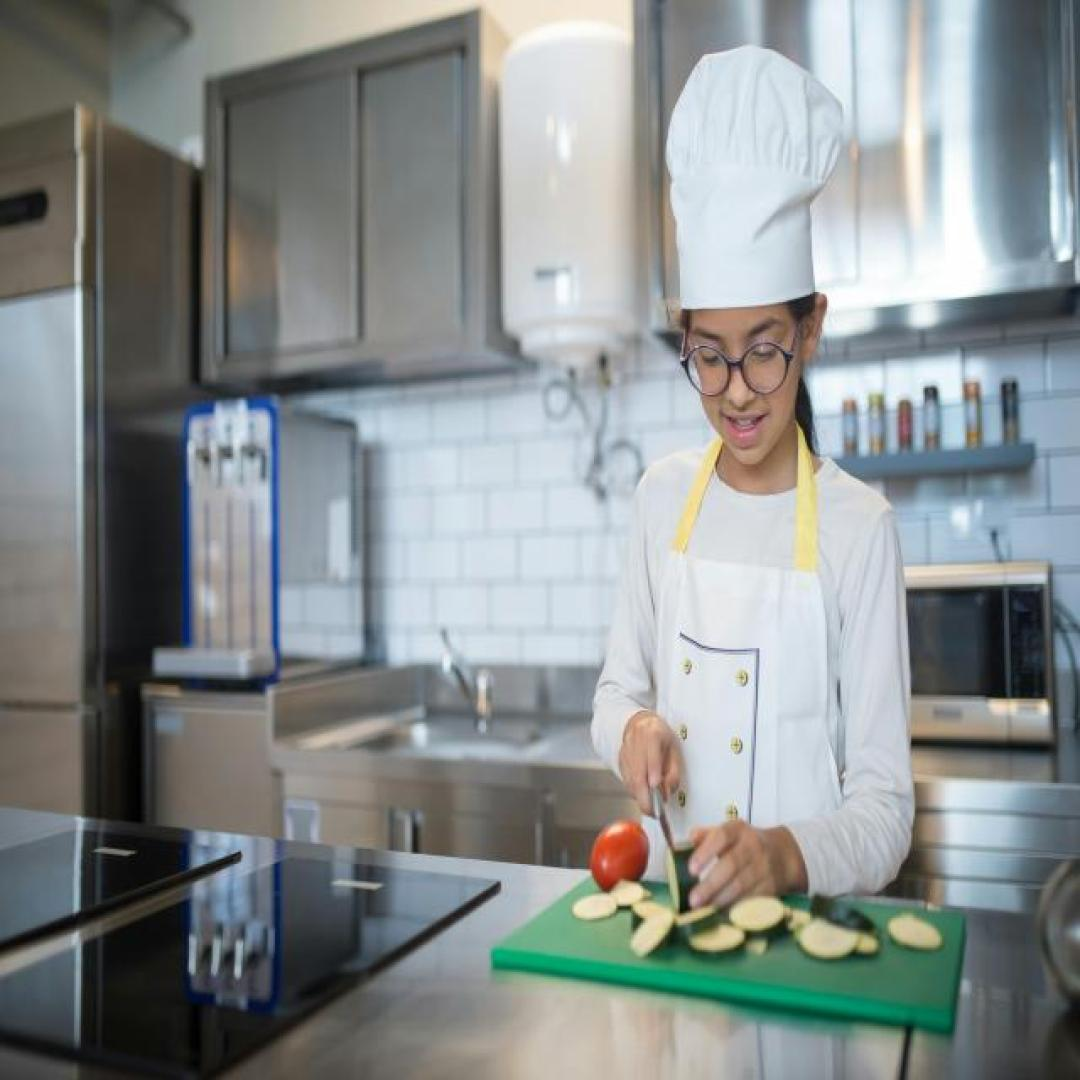matang: (590, 820, 650, 893)
